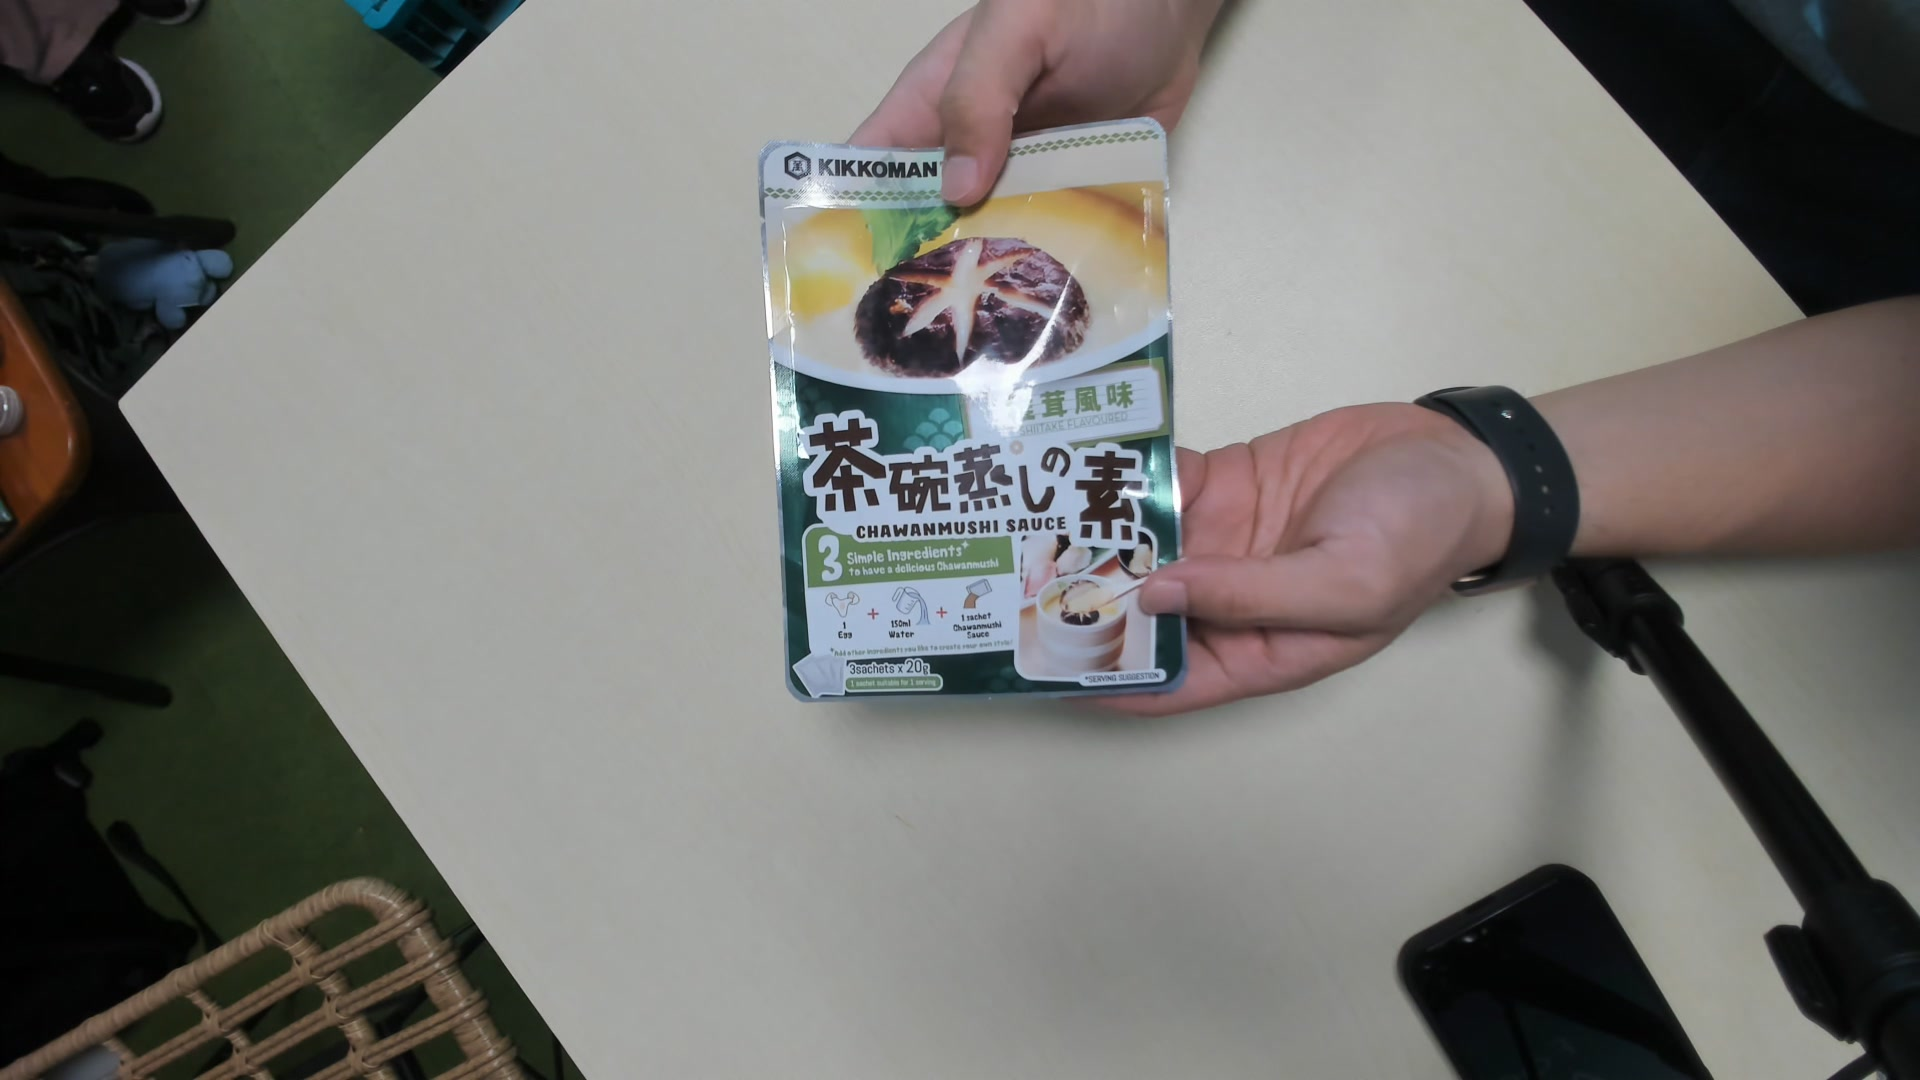OtherSauceDressing_0-99g_NonHalal_NonHealthy: (762, 112, 1191, 715)
